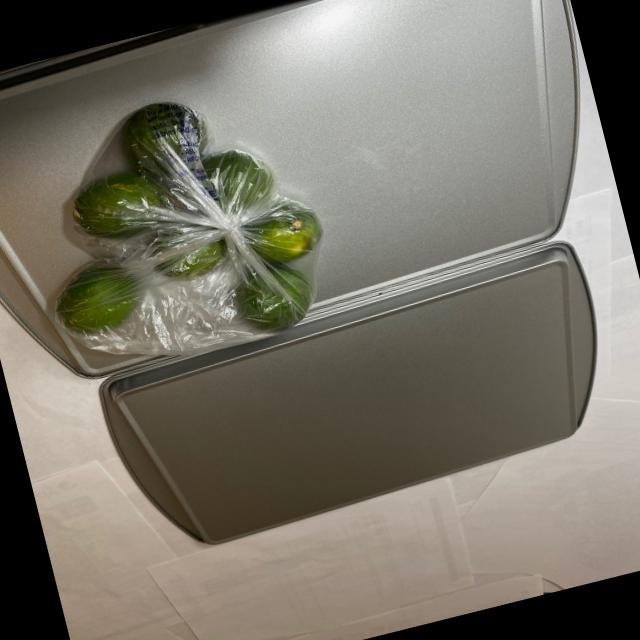lemon: (14, 78, 348, 384)
